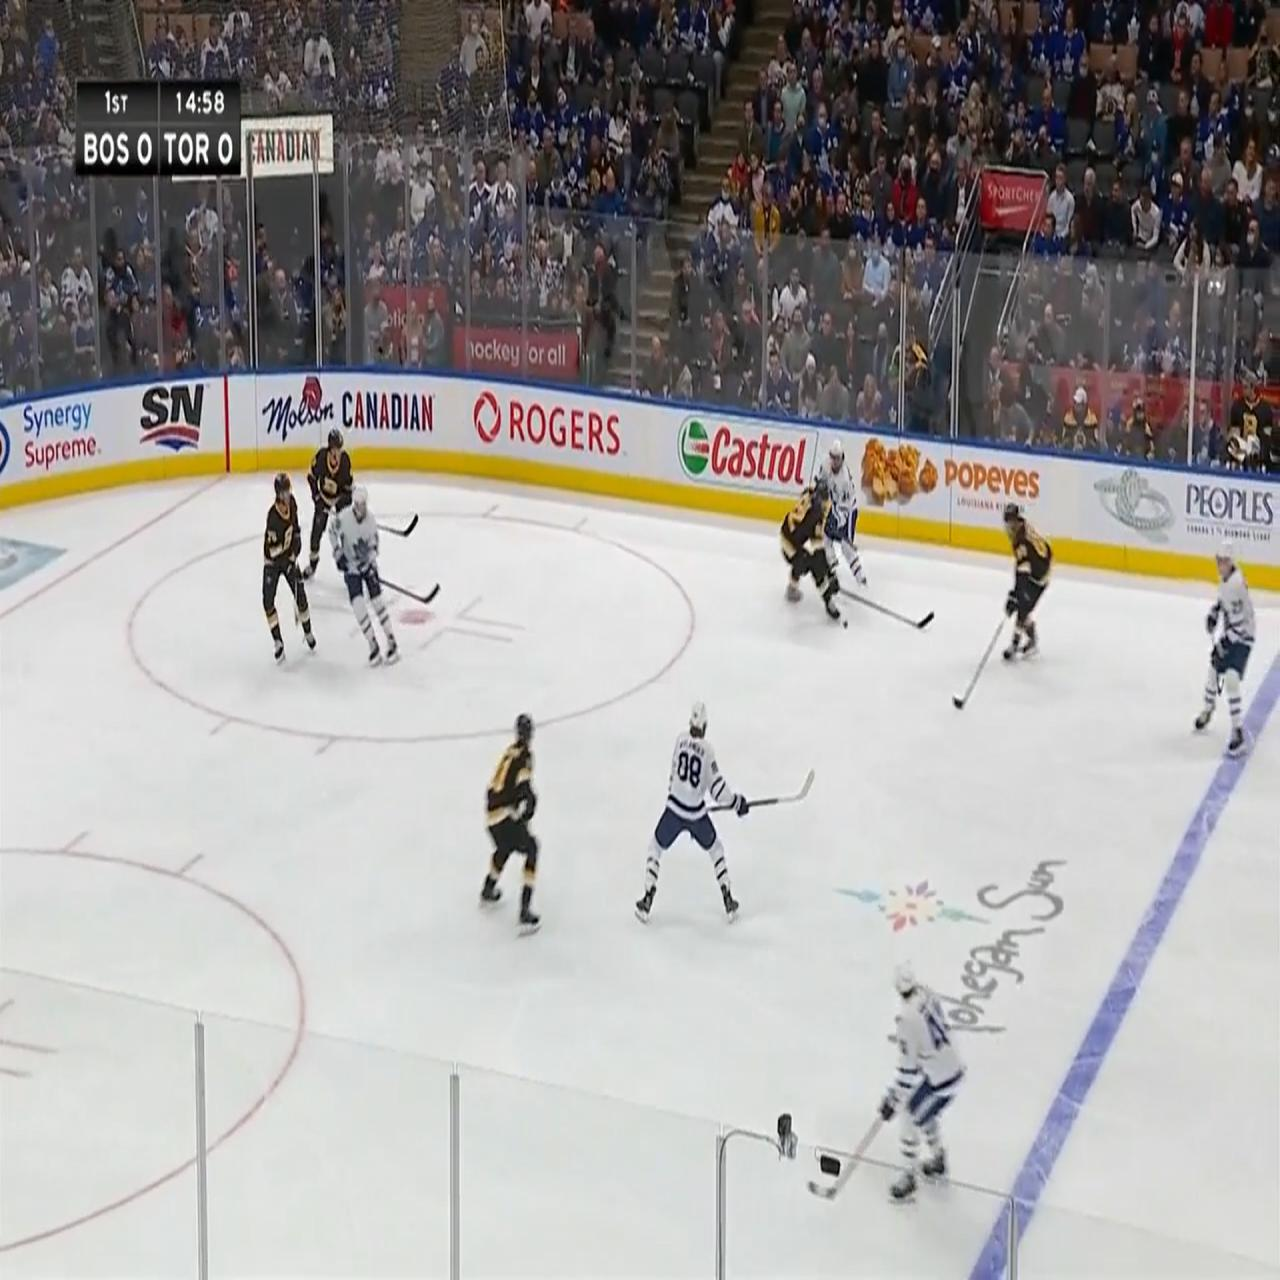Ad: (821, 845, 1084, 1060), (1096, 448, 1280, 570), (260, 359, 444, 458), (676, 413, 831, 503), (864, 448, 1049, 522), (0, 376, 104, 489), (468, 393, 627, 457), (136, 359, 209, 469)
